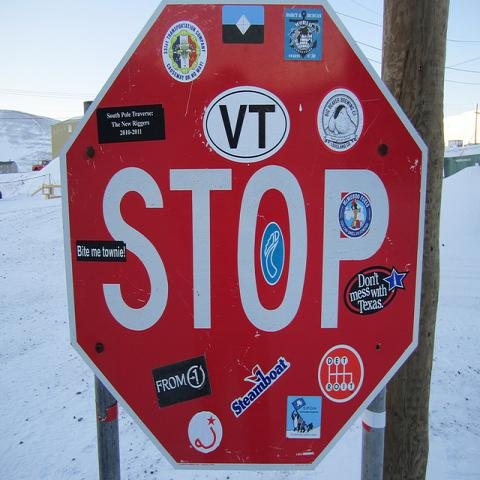truck: (32, 159, 51, 171)
